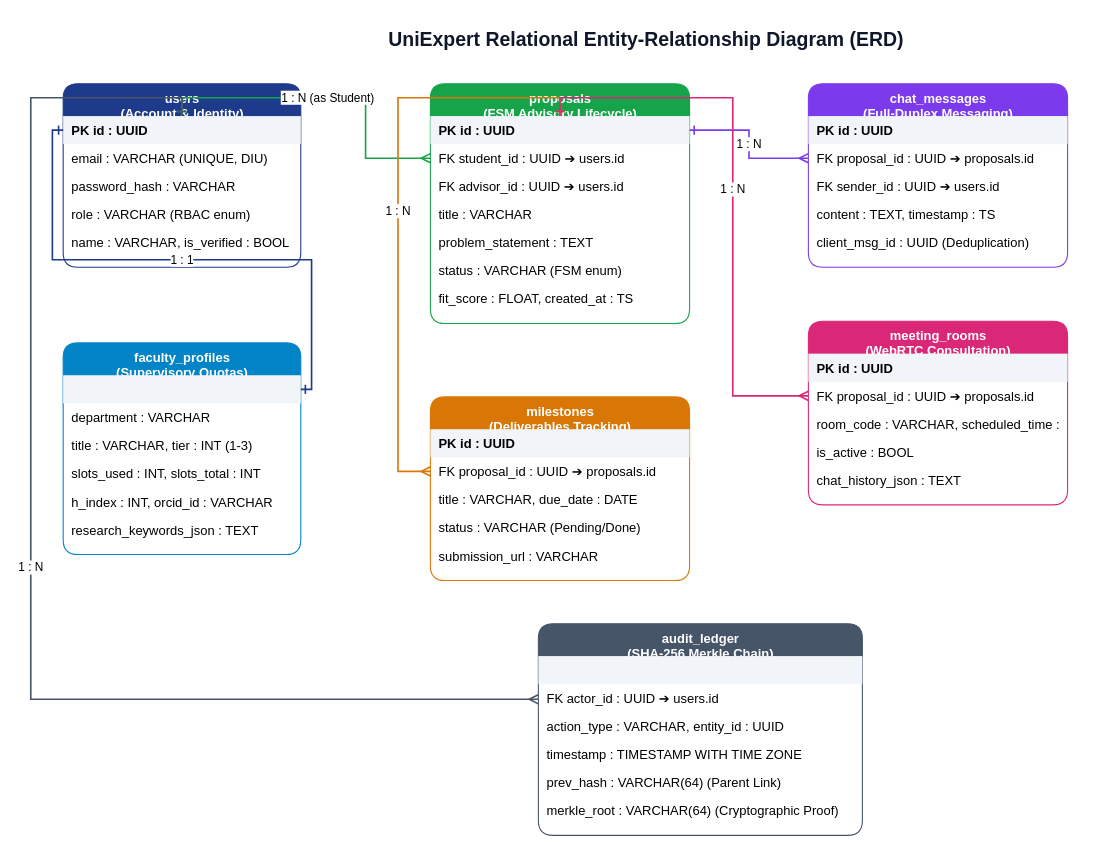
This 1097x854 diagram has some shape labels left out. The centre of each missing label's shape, as x and y in pixels:
"PK id : INTEGER (AUTOINCREMENT)" goes at [700,670].
"PK,FK id : UUID ➔ users.id" goes at [181,389].
